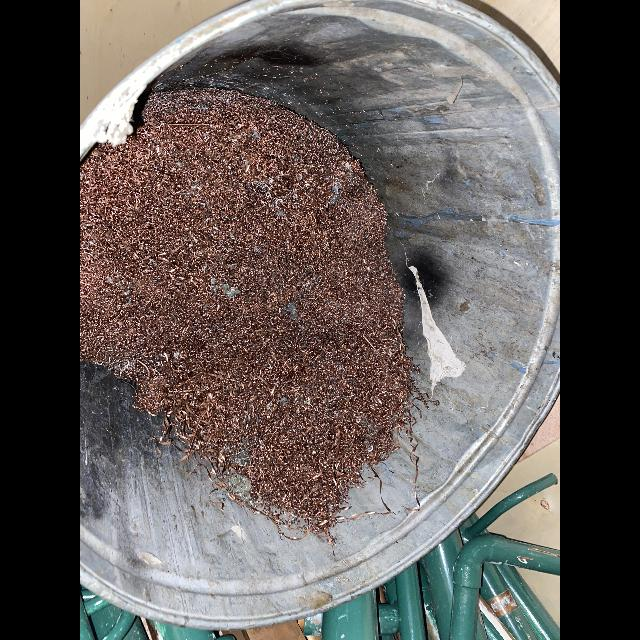Copper: (80, 89, 430, 546), (234, 619, 319, 640)
